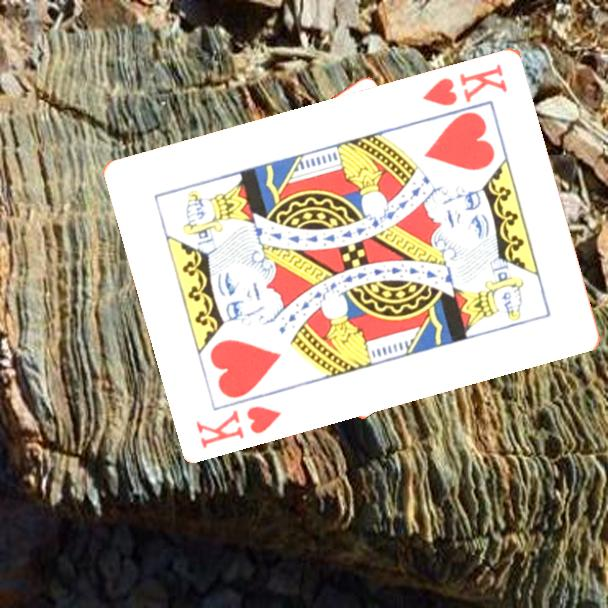h13: (419, 59, 511, 109), (193, 401, 285, 450)
